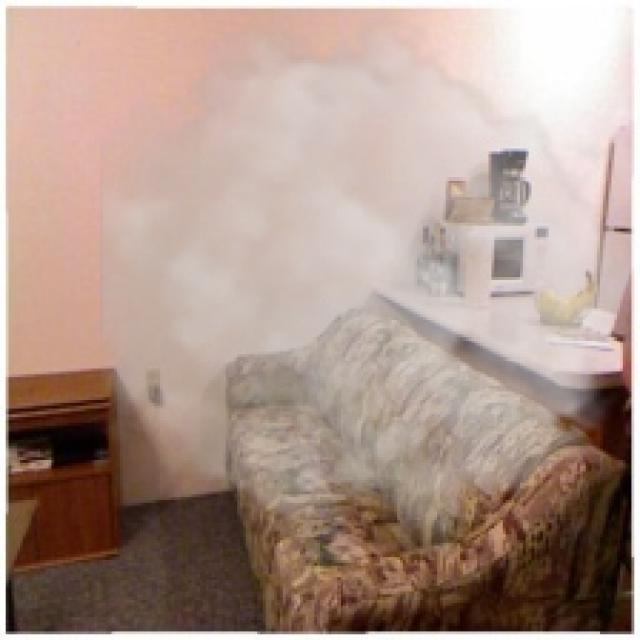Smoke: (99, 5, 632, 558)
